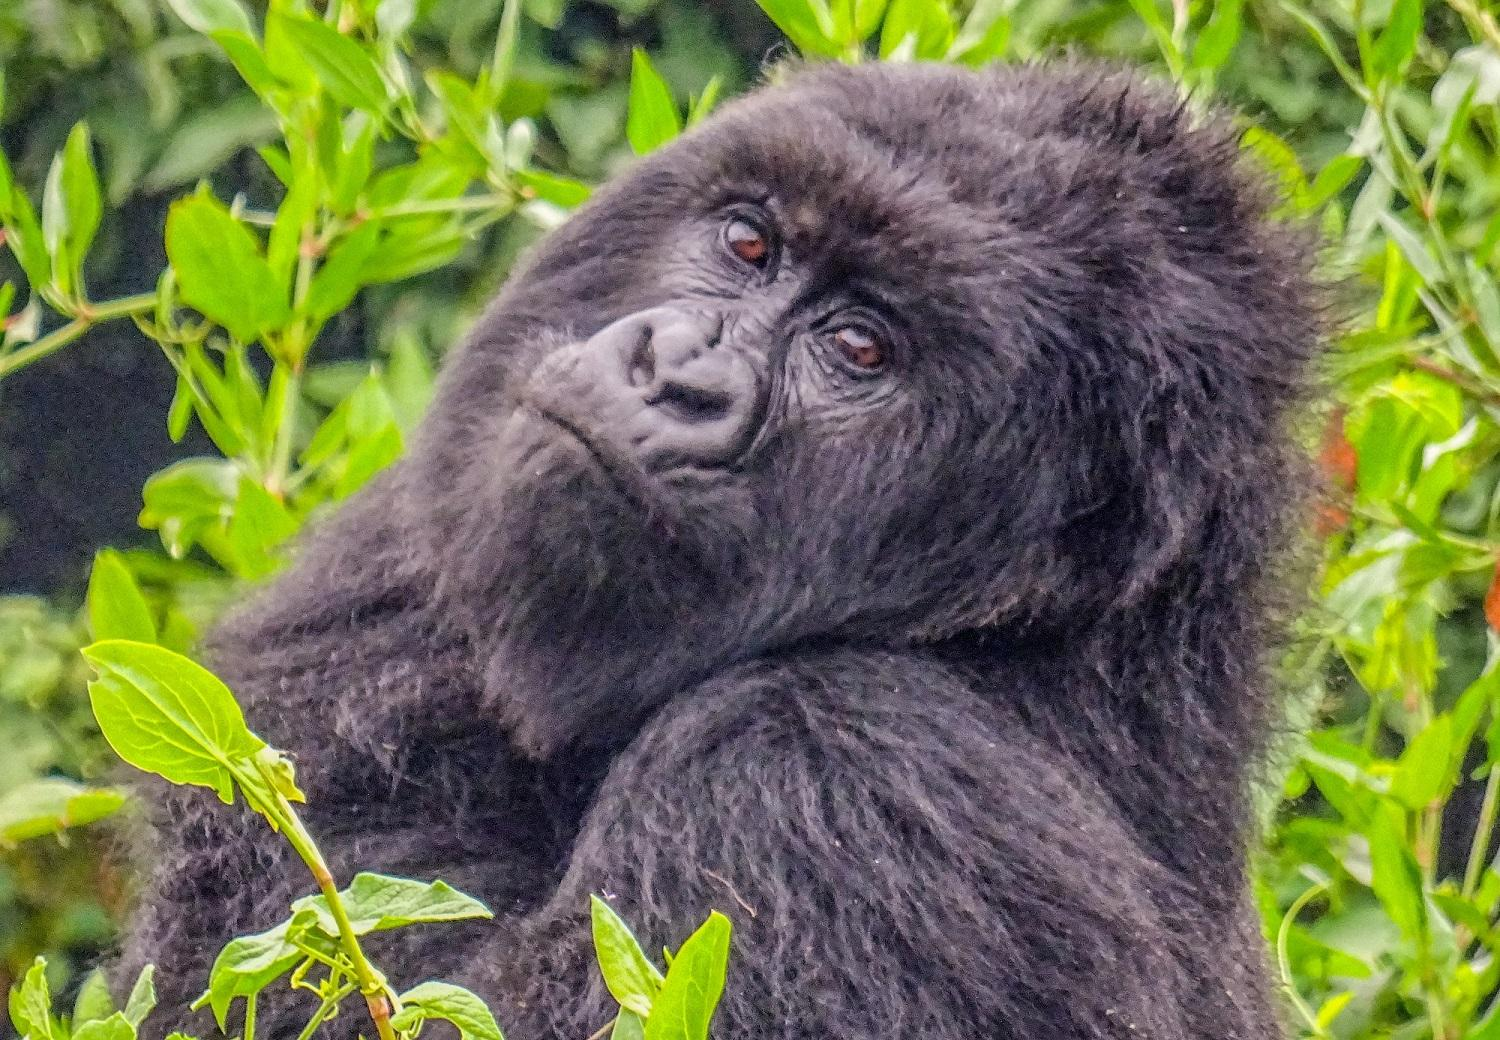goriile_montagne: (160, 0, 1363, 1040)
